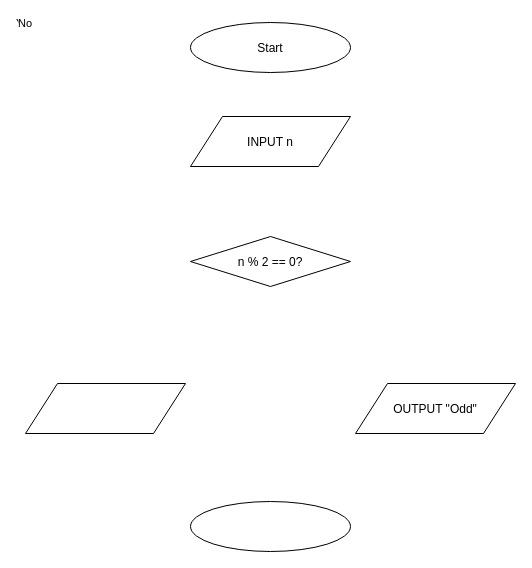
Some shapes in this 532 by 568 pixel diagram are drawn without their labels. Here are the shapes that lost their labels. From the top down, the box of each, then its label:
(24, 382, 186, 434): OUTPUT "Even"
(190, 500, 350, 552): End
